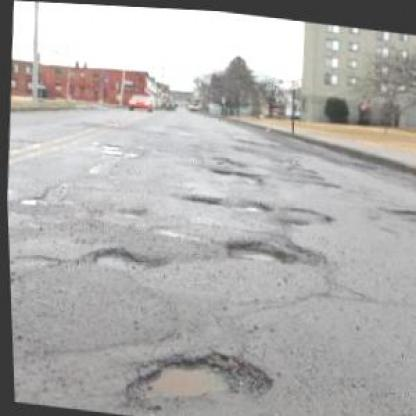pothole: (115, 337, 275, 413), (86, 241, 168, 275), (221, 230, 296, 264), (224, 194, 272, 212), (205, 161, 258, 177), (176, 187, 222, 203)
